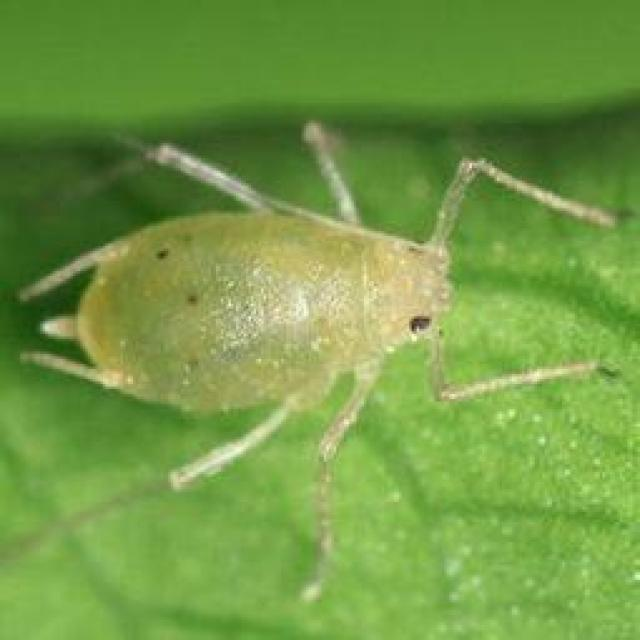Aphids: (24, 99, 619, 561)
